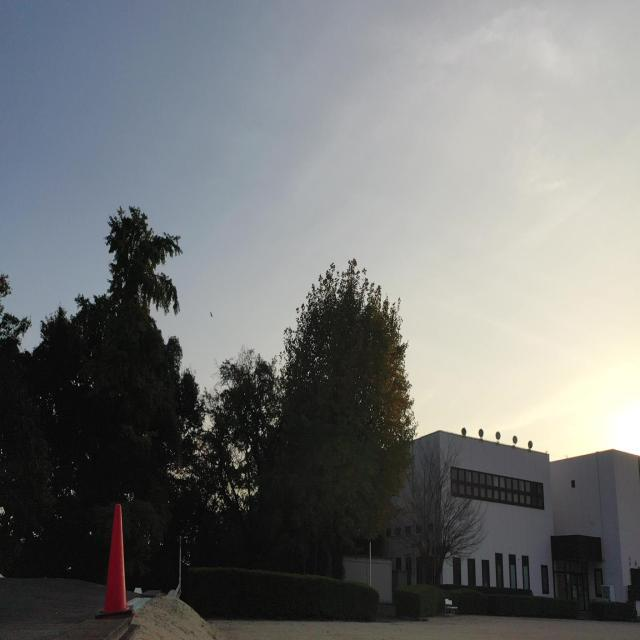Birds: (208, 308, 214, 320)
